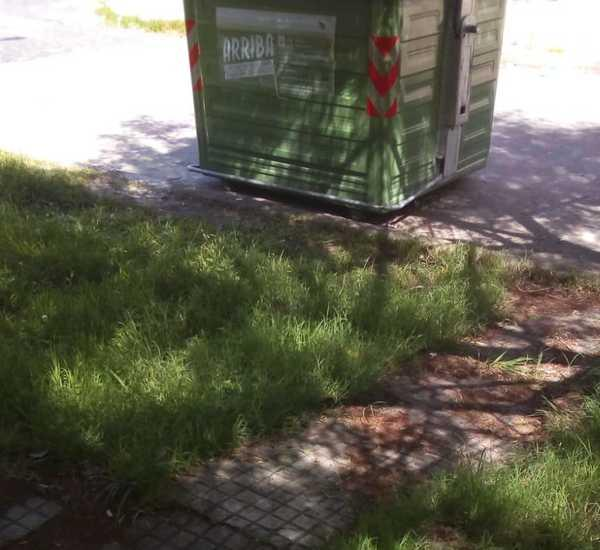Trash: (183, 0, 505, 223)
